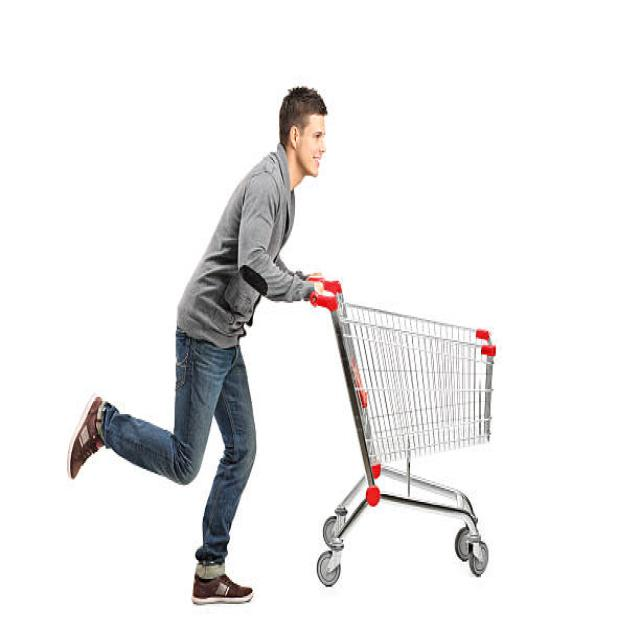Person: (66, 88, 329, 606)
